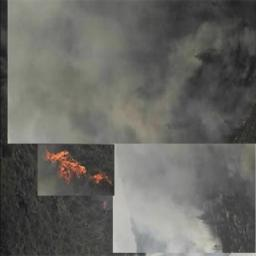Heavy smoke: (10, 3, 253, 138), (114, 141, 256, 251)
Medium fire: (36, 143, 117, 198)
